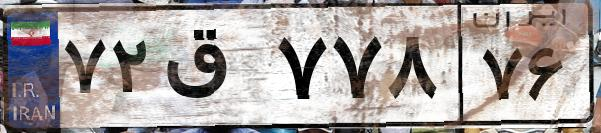2: (110, 28, 158, 98)
6: (525, 38, 570, 115)
7: (270, 28, 330, 110), (330, 28, 385, 110), (57, 26, 110, 100), (475, 38, 525, 113)
8: (385, 28, 445, 110)
ق: (158, 20, 270, 120)
